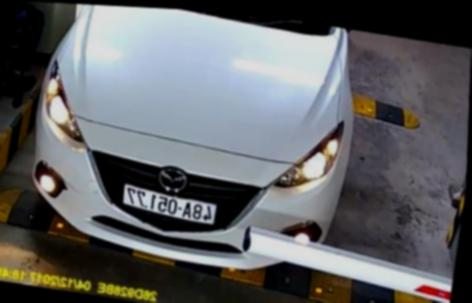License_Plate: (115, 182, 222, 222)
